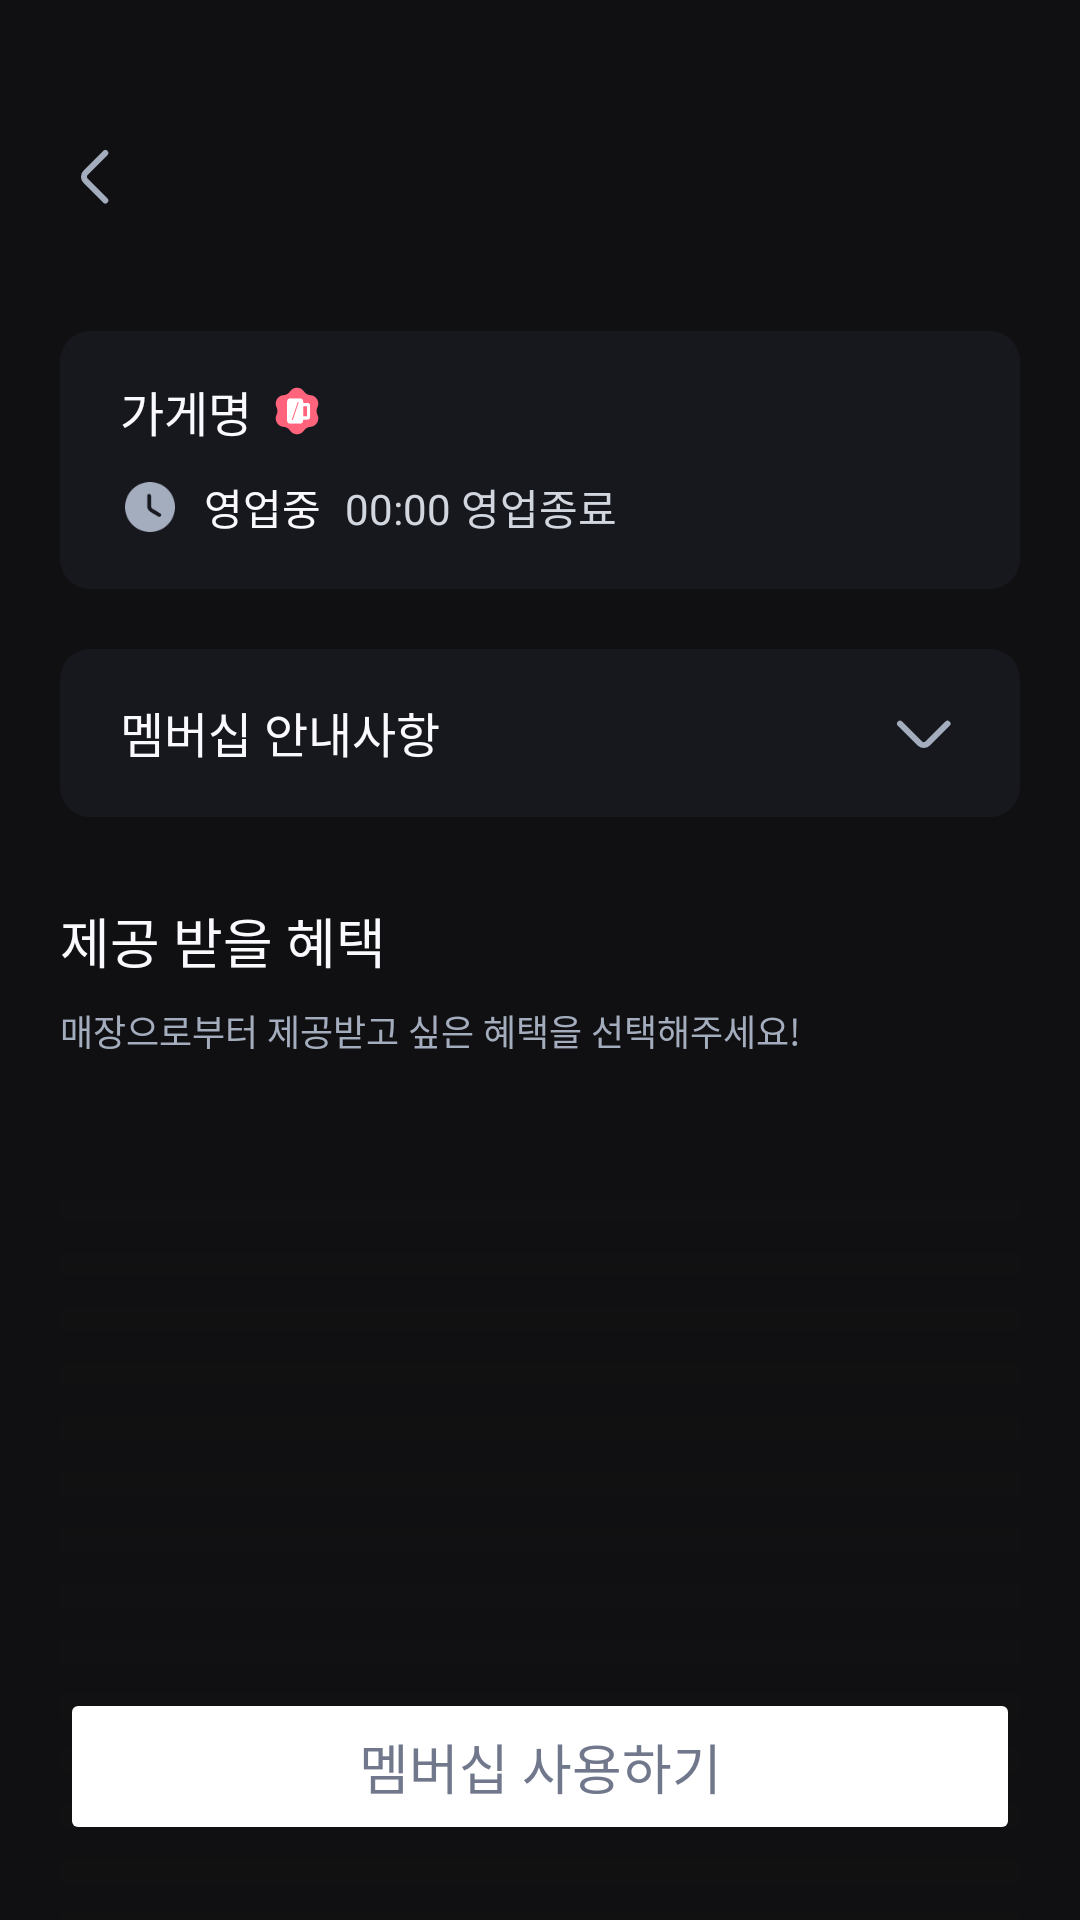

Where icons sit on this 1080w x 1920h app screen, as (x1, y1, x2, y2):
arrow down: (897, 720, 951, 748)
arrow left: (81, 150, 109, 204)
subscribe bedge: (275, 387, 319, 435)
time: (125, 482, 175, 532)
